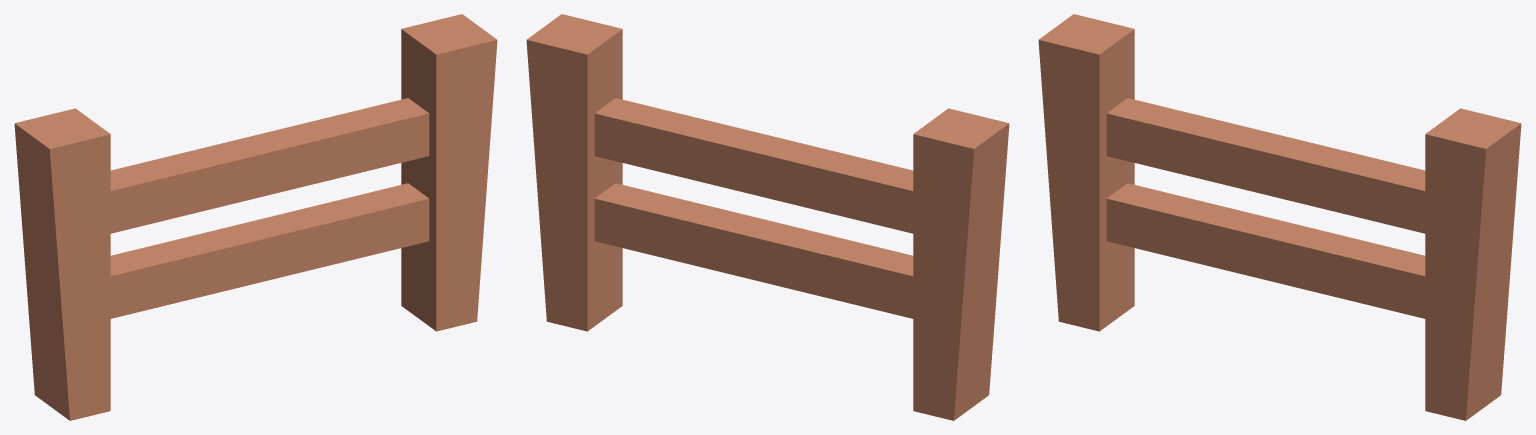
The model's file is Fence.fbx.
The picture shows the model from 3 angles, left to right: view 1: azimuth 30°, elevation 25°; view 2: azimuth 150°, elevation 25°; view 3: azimuth 330°, elevation 25°; orthographic projection.
Parts seen in each view (by area): view 1: ograda; view 2: ograda; view 3: ograda.
Boxes of the visible parts, left/top/right/bottom form: ograda: left=14, top=14, right=497, bottom=420; ograda: left=526, top=14, right=1009, bottom=420; ograda: left=1038, top=14, right=1521, bottom=420.
Bounding box in the file's own units: 242 × 143 × 33.
Materials: 1 (1 with a texture image).
